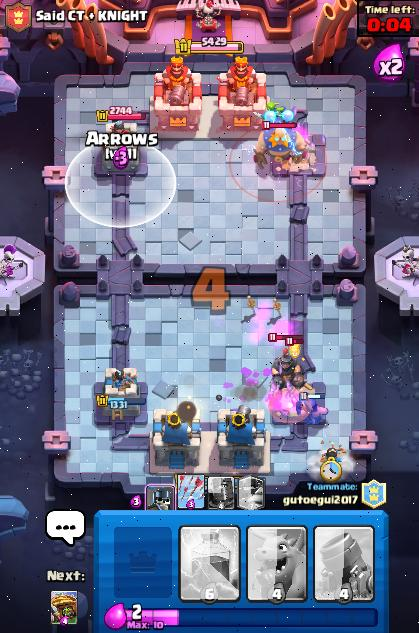EElectroG: (258, 121, 305, 170)
EKingTower: (150, 65, 201, 130), (217, 66, 266, 129)
EMegaKnight: (273, 349, 297, 388)
EnemyPrincessTower: (99, 121, 146, 171)
OEx: (305, 398, 324, 424)
OPrincess: (321, 442, 345, 466)
OwnKingTower: (150, 402, 200, 472), (217, 405, 269, 472)
OwnPrincessTower: (95, 369, 146, 422)
TowerDown: (271, 382, 325, 424), (273, 135, 325, 174)
